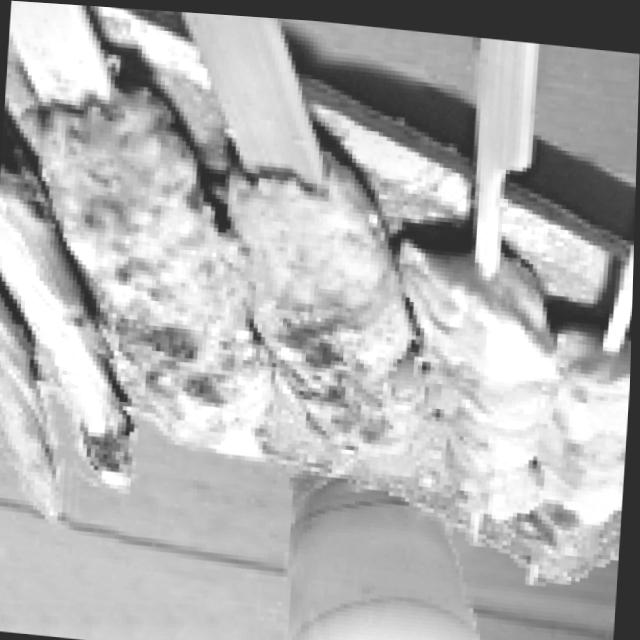烧串烤肉: (133, 36, 639, 585)
